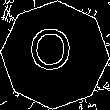O_S: (32, 28, 78, 82)
